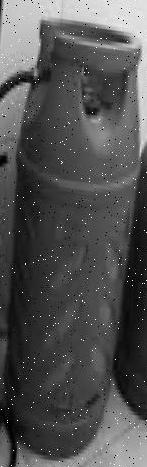cylinder: (1, 1, 147, 467)
